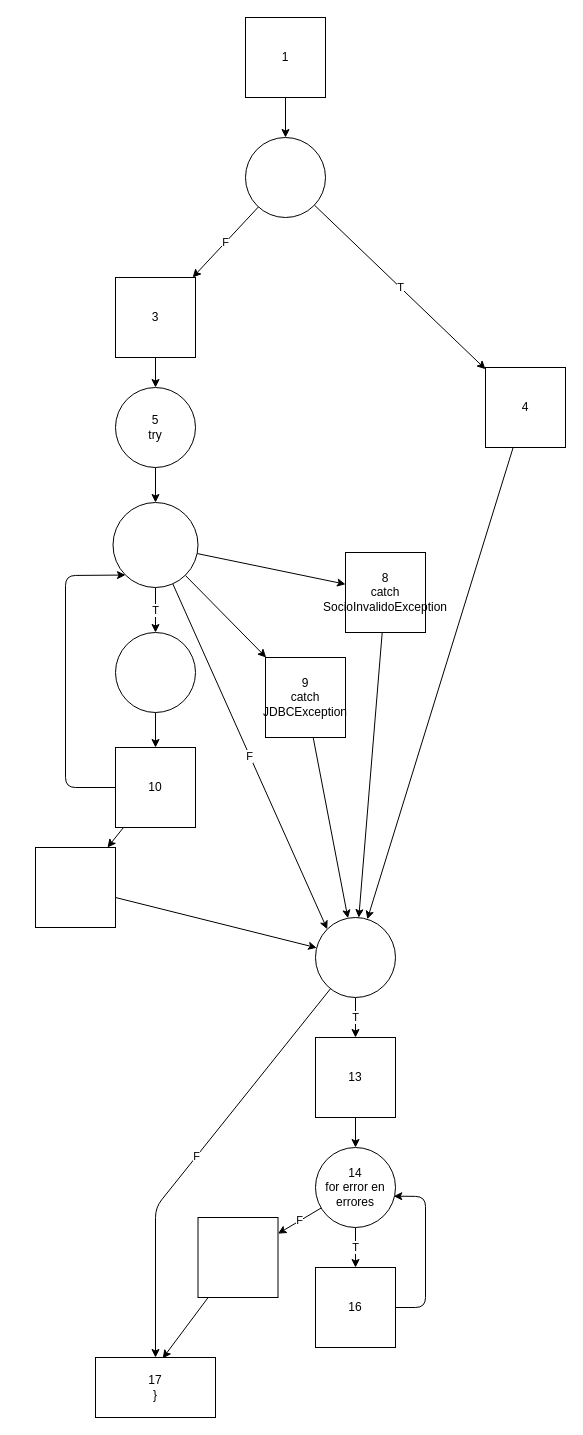
Some shapes in this 583 by 1435 pixel diagram are drawn without their labels. The centre of each missing label's shape, as x and y in pixels:
"11 catch IsbnInvalidoException" goes at [75,887].
"12 errores.size()>0" goes at [355,957].
"15 throw" goes at [237,1257].
"2 !compruebaPermisos()" goes at [285,177].
"6 for isbn in isbns" goes at [155,545].
"7 try" goes at [155,672].
